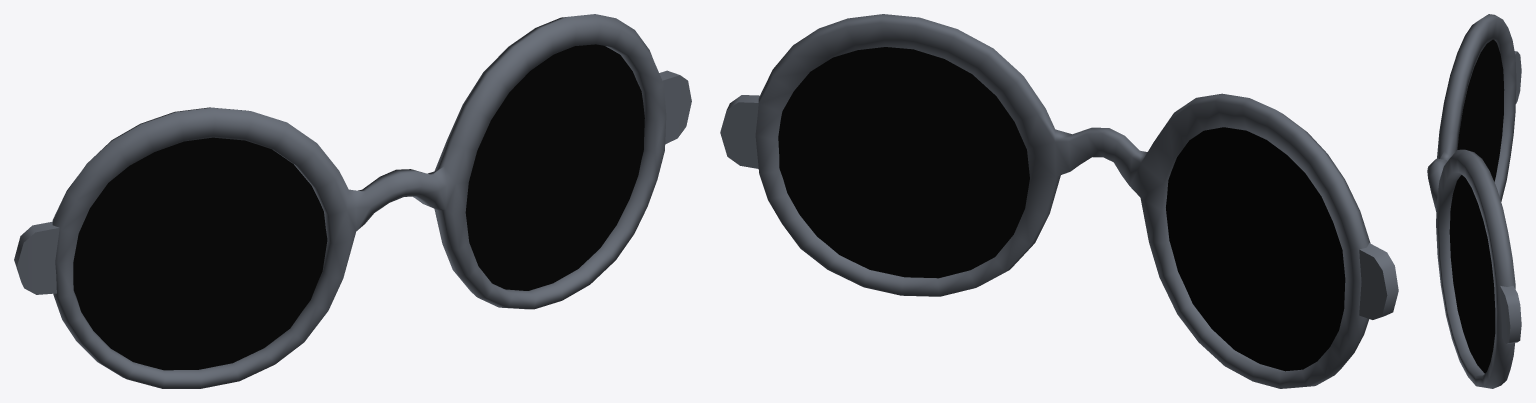
File: AccessoryGlassCircle2.glb
3 renders of one model, left to right at view 1: azimuth 30°, elevation 25°; view 2: azimuth 150°, elevation 25°; view 3: azimuth 270°, elevation 25°, orthographic. The views are drawn at different scales.
Visible parts, largest first — view 1: AccessoryAlpha1__mAccessoryAlpha, Accessory__mAccessory; view 2: AccessoryAlpha1__mAccessoryAlpha, Accessory__mAccessory; view 3: Accessory__mAccessory, AccessoryAlpha1__mAccessoryAlpha.
Part boxes in pixels (box(x1,y1,x2,y2)): AccessoryAlpha1__mAccessoryAlpha: box(73, 44, 644, 370); Accessory__mAccessory: box(14, 14, 691, 388); AccessoryAlpha1__mAccessoryAlpha: box(778, 47, 1345, 371); Accessory__mAccessory: box(720, 14, 1398, 388); Accessory__mAccessory: box(1427, 14, 1521, 388); AccessoryAlpha1__mAccessoryAlpha: box(1449, 39, 1504, 373).
Size of the model in its own units: 6.21 by 2.44 by 0.9632.
Materials: 2 (2 with a texture image).
